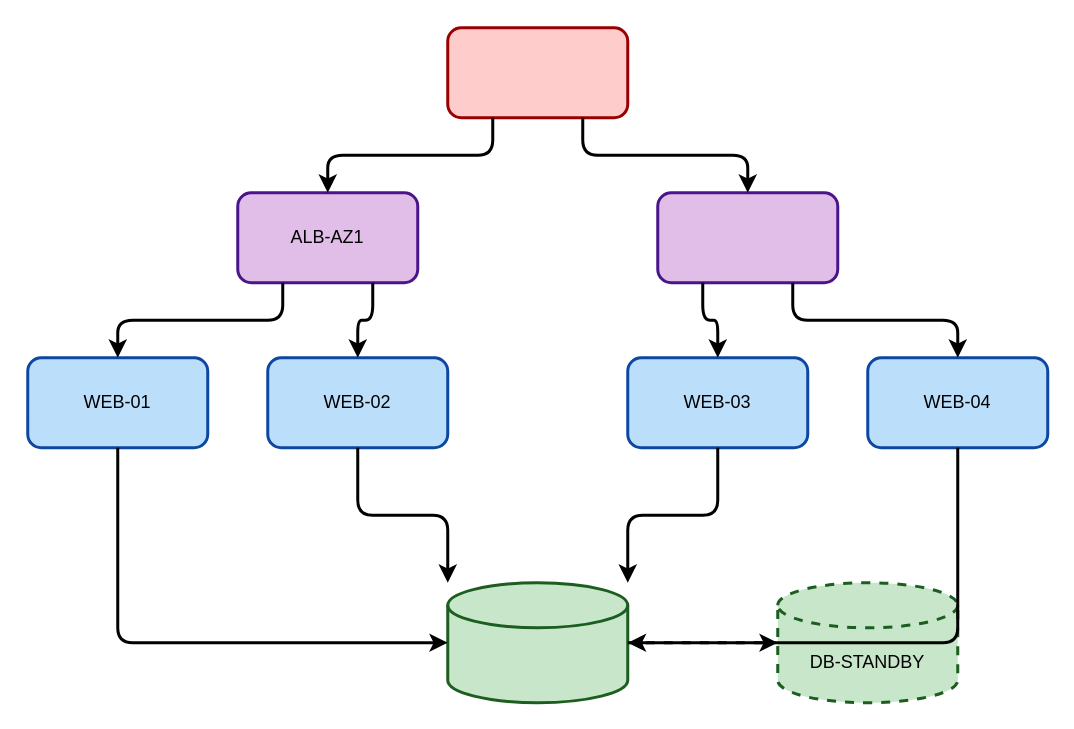
Some shapes in this 1074 by 729 pixel diagram are drawn without their labels. The centre of each missing label's shape, as x and y in pixels:
"ALB-AZ2" goes at point 747,237.
"DB-MASTER" goes at point 537,642.
"EDGE-FW-01" goes at point 537,72.
